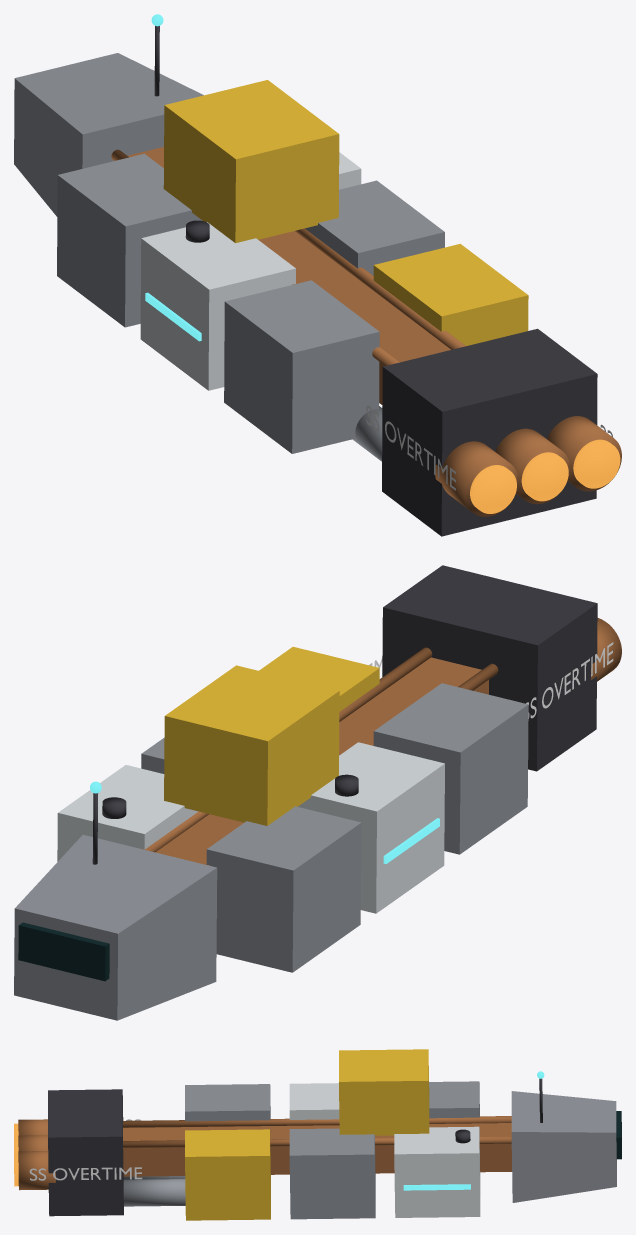
Rendered from hauler.glb.
3 views of the same model, one above another, from view 1: azimuth 30°, elevation 25°; view 2: azimuth 150°, elevation 25°; view 3: azimuth 270°, elevation 25° (orthographic). The views are drawn at different scales.
Visible parts, largest first — view 1: EngineBlock, ContainerTop, Container5, Cab, Container3, Container4, Container2, Container1, Spine, EngineBellL, EngineBellR, EngineBellC (+6 smaller); view 2: Cab, EngineBlock, ContainerTop, Container3, Container5, Container4, Container0, Spine, Windshield, Container2, RailR, EngineBellL (+2 smaller); view 3: Cab, EngineBlock, Container2, ContainerTop, Container1, Container0, Spine, Container5, RailL, Container3, Container4, TankR (+7 smaller).
Part boxes in pixels (x1=…): EngineBlock: x1=382, y1=328, x2=597, y2=536; ContainerTop: x1=163, y1=80, x2=339, y2=243; Container5: x1=224, y1=280, x2=379, y2=453; Cab: x1=14, y1=53, x2=203, y2=216; Container3: x1=57, y1=153, x2=202, y2=327; Container4: x1=140, y1=222, x2=295, y2=390; Container2: x1=373, y1=243, x2=528, y2=345; Container1: x1=305, y1=180, x2=444, y2=275; Spine: x1=127, y1=147, x2=450, y2=404; EngineBellL: x1=435, y1=441, x2=518, y2=516; EngineBellR: x1=547, y1=416, x2=621, y2=491; EngineBellC: x1=495, y1=428, x2=570, y2=504; Cab: x1=14, y1=835, x2=217, y2=1020; EngineBlock: x1=382, y1=565, x2=597, y2=771; ContainerTop: x1=164, y1=665, x2=339, y2=825; Container3: x1=206, y1=806, x2=361, y2=972; Container5: x1=373, y1=683, x2=528, y2=854; Container4: x1=298, y1=742, x2=444, y2=913; Container0: x1=57, y1=765, x2=198, y2=861; Spine: x1=155, y1=657, x2=488, y2=864; Windshield: x1=18, y1=922, x2=109, y2=981; Container2: x1=259, y1=646, x2=379, y2=711; RailR: x1=141, y1=647, x2=432, y2=852; EngineBellL: x1=591, y1=618, x2=621, y2=681; Cab: x1=511, y1=1091, x2=616, y2=1202; EngineBlock: x1=48, y1=1089, x2=123, y2=1216; Container2: x1=185, y1=1129, x2=270, y2=1220; ContainerTop: x1=339, y1=1049, x2=429, y2=1135; Container1: x1=289, y1=1128, x2=375, y2=1219; Container0: x1=394, y1=1126, x2=480, y2=1217; Spine: x1=123, y1=1123, x2=511, y2=1176; Container5: x1=185, y1=1084, x2=270, y2=1121; RailL: x1=123, y1=1116, x2=511, y2=1127; Container3: x1=429, y1=1081, x2=479, y2=1118; Container4: x1=289, y1=1083, x2=339, y2=1119; TankR: x1=123, y1=1179, x2=185, y2=1206.
Size of the model in its own units: 2.33 by 1.95 by 8.13.
